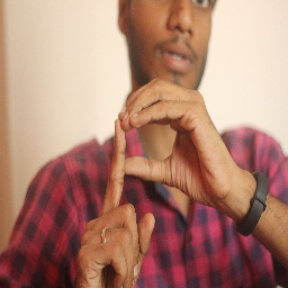P: (74, 73, 230, 283)
